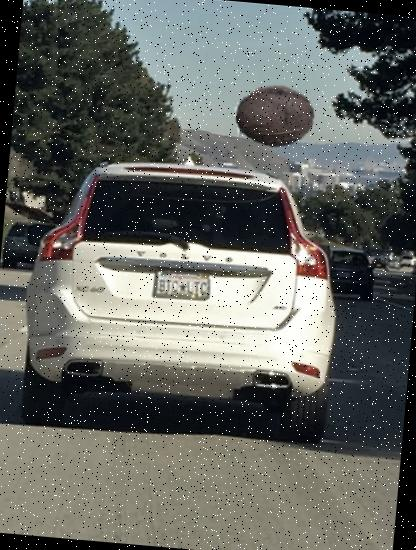Cocos: (232, 74, 318, 158)
